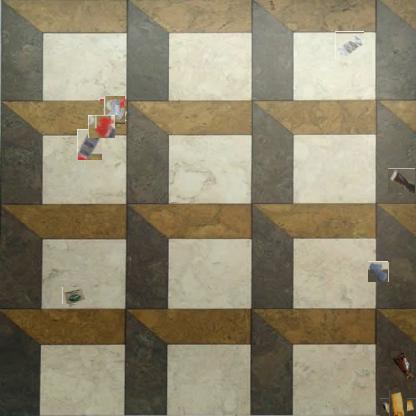dirty: (335, 31, 364, 59), (77, 129, 102, 160), (391, 352, 415, 384), (388, 167, 416, 194), (384, 393, 411, 416), (102, 98, 127, 122), (63, 285, 84, 306)
liquid: (89, 114, 114, 139), (368, 262, 389, 282)
